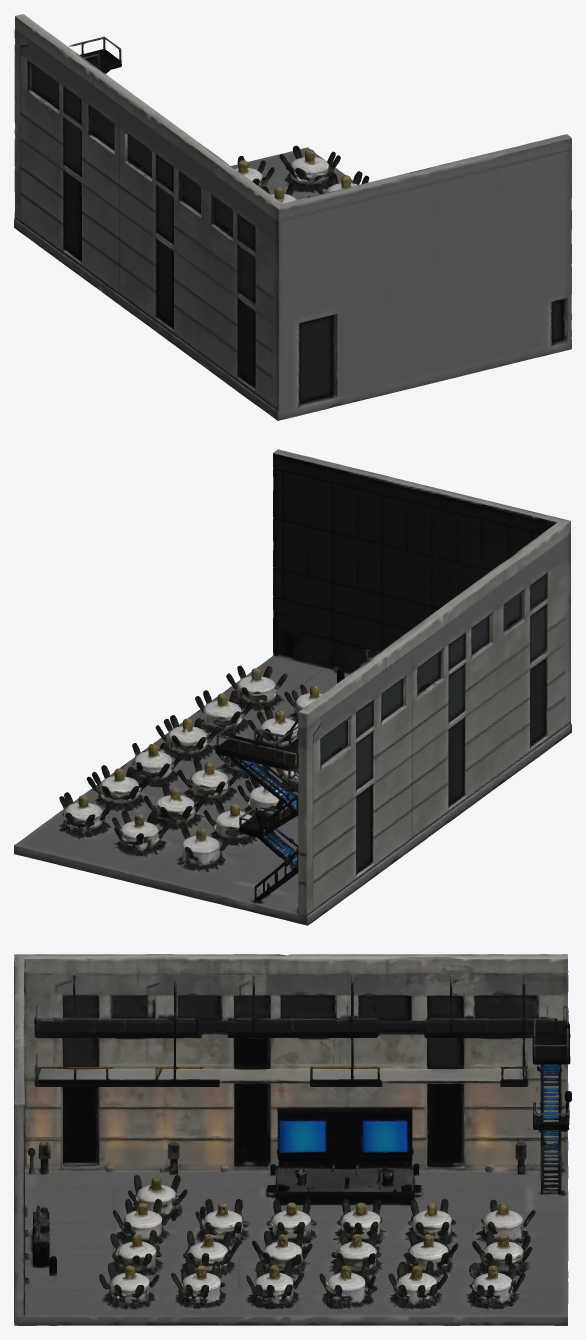
The model's file is gala.glb.
3 renders of one model, top to bottom at view 1: azimuth 30°, elevation 25°; view 2: azimuth 150°, elevation 25°; view 3: azimuth 270°, elevation 25°, orthographic. The views are drawn at different scales.
Visible parts, largest first — view 1: tripo_node_e79a088b-ae12-430b-8ba6-e36b0eed3297; view 2: tripo_node_e79a088b-ae12-430b-8ba6-e36b0eed3297; view 3: tripo_node_e79a088b-ae12-430b-8ba6-e36b0eed3297.
Boxes of the visible parts, <box> form: tripo_node_e79a088b-ae12-430b-8ba6-e36b0eed3297: <box>14,14,571,420</box>; tripo_node_e79a088b-ae12-430b-8ba6-e36b0eed3297: <box>14,449,571,925</box>; tripo_node_e79a088b-ae12-430b-8ba6-e36b0eed3297: <box>14,954,571,1325</box>.
Bounding box in the file's own units: 0.6392 × 0.4396 × 1.
1 material, 1 textured.
